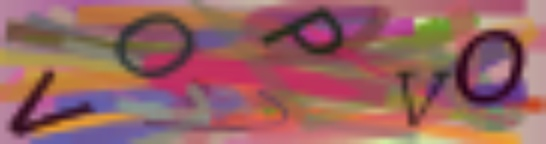O: (110, 10, 195, 83), (453, 29, 526, 110)
P: (261, 6, 350, 59)
V: (7, 64, 96, 140), (394, 67, 451, 130)
